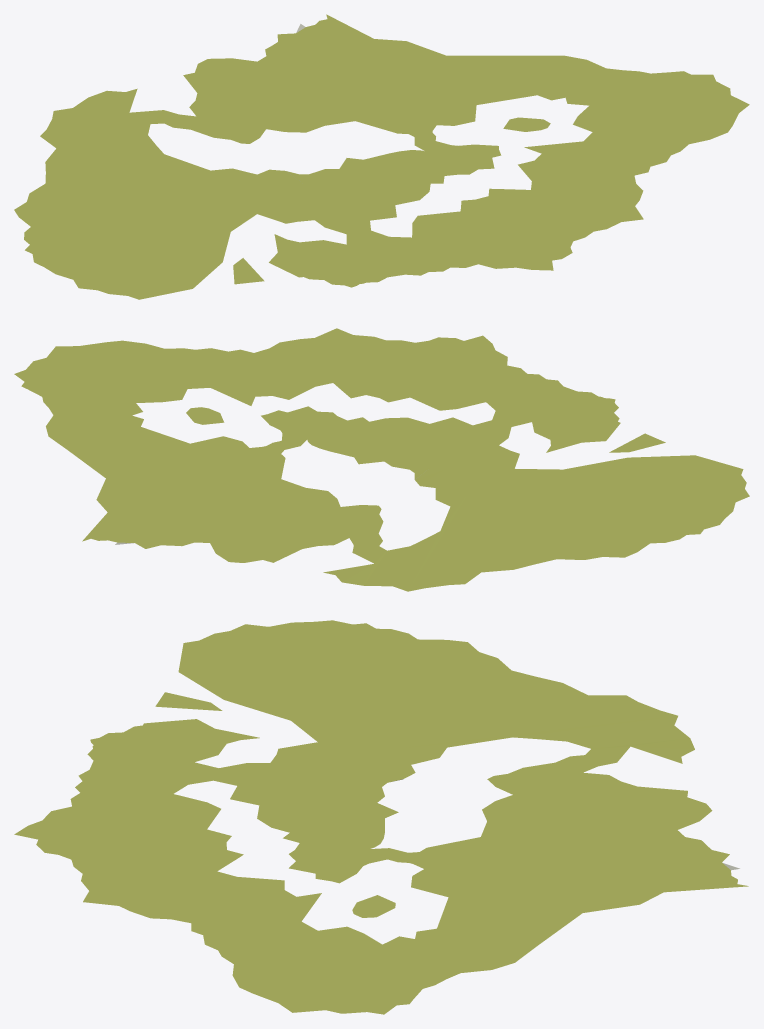
Rendered from floor04.fbx.
3 views of the same model, one above another, from view 1: azimuth 30°, elevation 25°; view 2: azimuth 150°, elevation 25°; view 3: azimuth 270°, elevation 25° (orthographic). The views are drawn at different scales.
Visible parts, largest first — view 1: polySurface15; view 2: polySurface15; view 3: polySurface15.
Boxes of the visible parts, <box> form: polySurface15: <box>14,14,749,299</box>; polySurface15: <box>14,328,749,591</box>; polySurface15: <box>14,620,748,1014</box>.
Bounding box in the file's own units: 1.31 × 0.00213 × 1.03.
